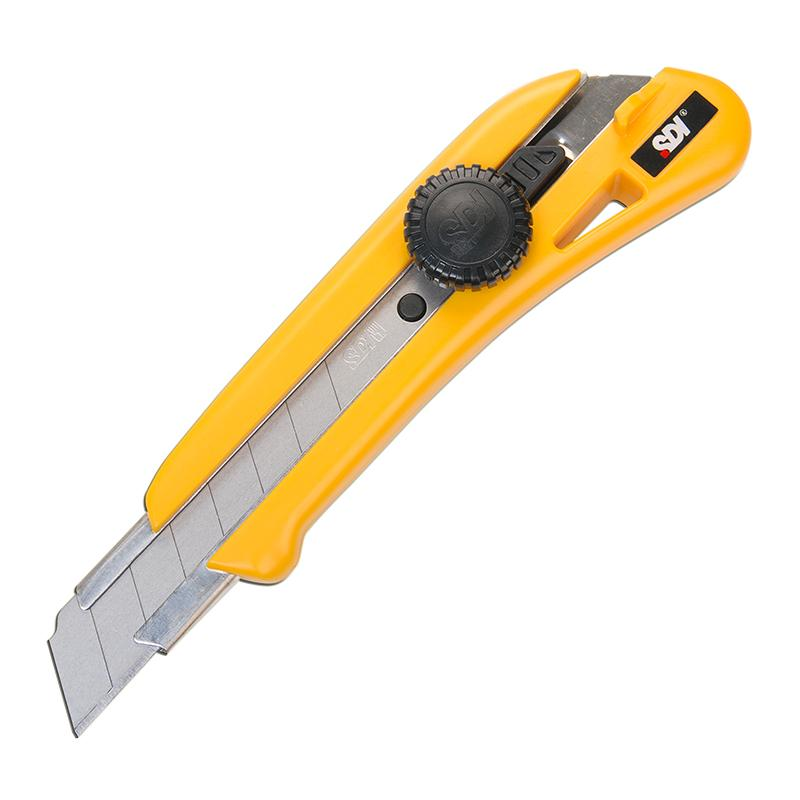cutter: (45, 64, 754, 741)
